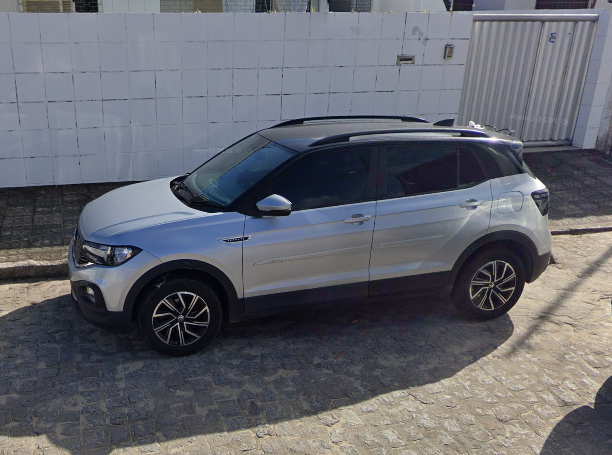car: (65, 110, 556, 359)
